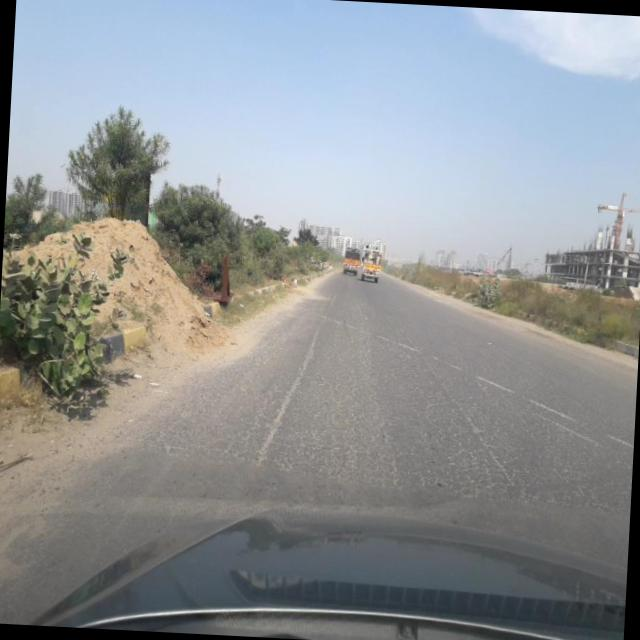crack: (203, 296, 615, 526)
pothole: (256, 294, 334, 468)
